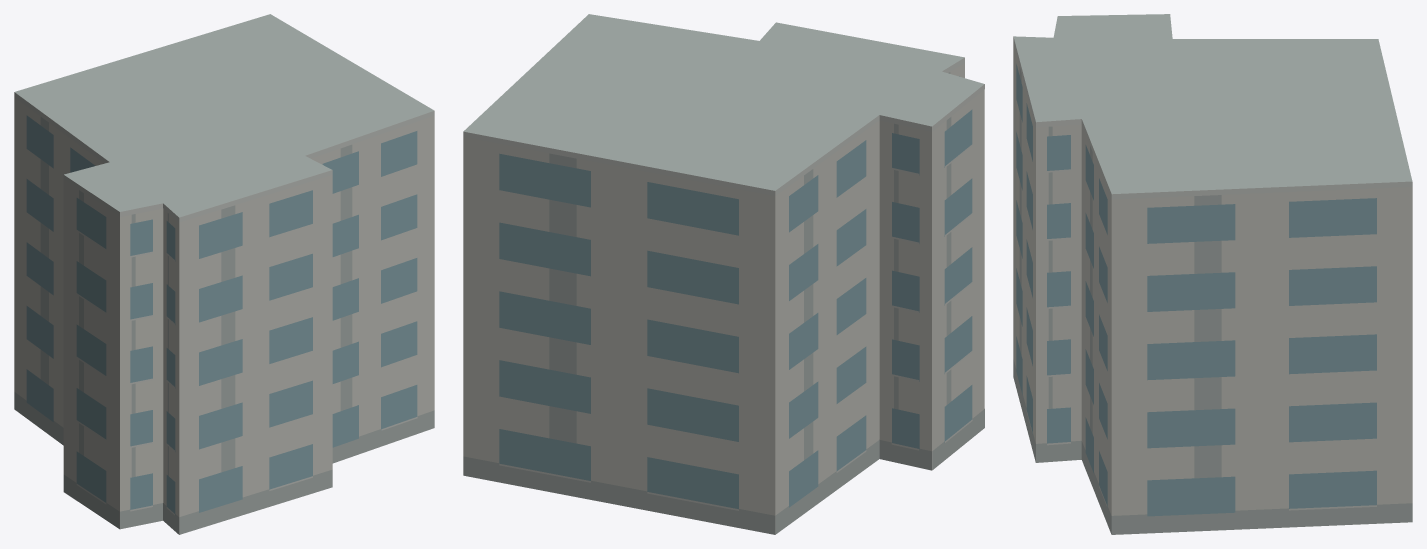
File: residential-7c04d04a-df6e-426b-a1f6-9076f0ecb78b.glb
3 views of the same model, side by side, from view 1: azimuth 30°, elevation 25°; view 2: azimuth 150°, elevation 25°; view 3: azimuth 270°, elevation 25° (orthographic). The views are drawn at different scales.
Visible parts, largest first — view 1: residential-7c04d04a-df6e-426b-a1f6-9076f0ecb78b.tmp; view 2: residential-7c04d04a-df6e-426b-a1f6-9076f0ecb78b.tmp; view 3: residential-7c04d04a-df6e-426b-a1f6-9076f0ecb78b.tmp.
Boxes of the visible parts, x1,y1,x2,y2 form: residential-7c04d04a-df6e-426b-a1f6-9076f0ecb78b.tmp: [14, 14, 434, 534]; residential-7c04d04a-df6e-426b-a1f6-9076f0ecb78b.tmp: [463, 14, 984, 534]; residential-7c04d04a-df6e-426b-a1f6-9076f0ecb78b.tmp: [1013, 14, 1412, 534].
Size of the model in its own units: 17.3 by 15.25 by 16.2.
